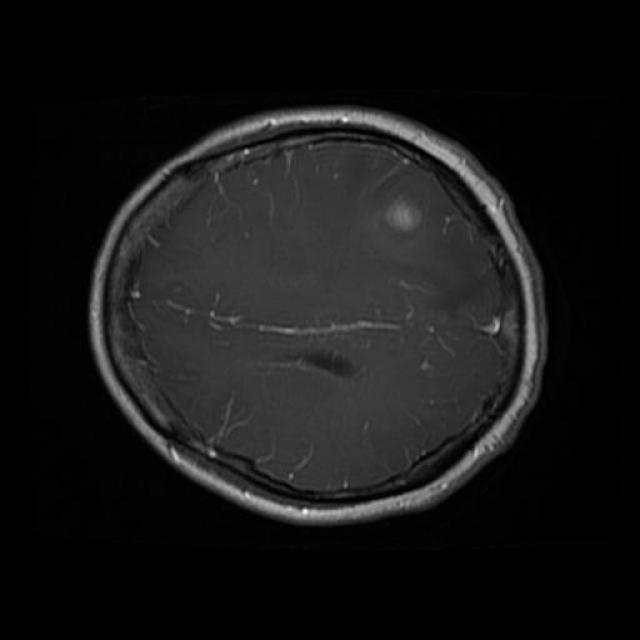Glioma: (386, 198, 421, 231)
